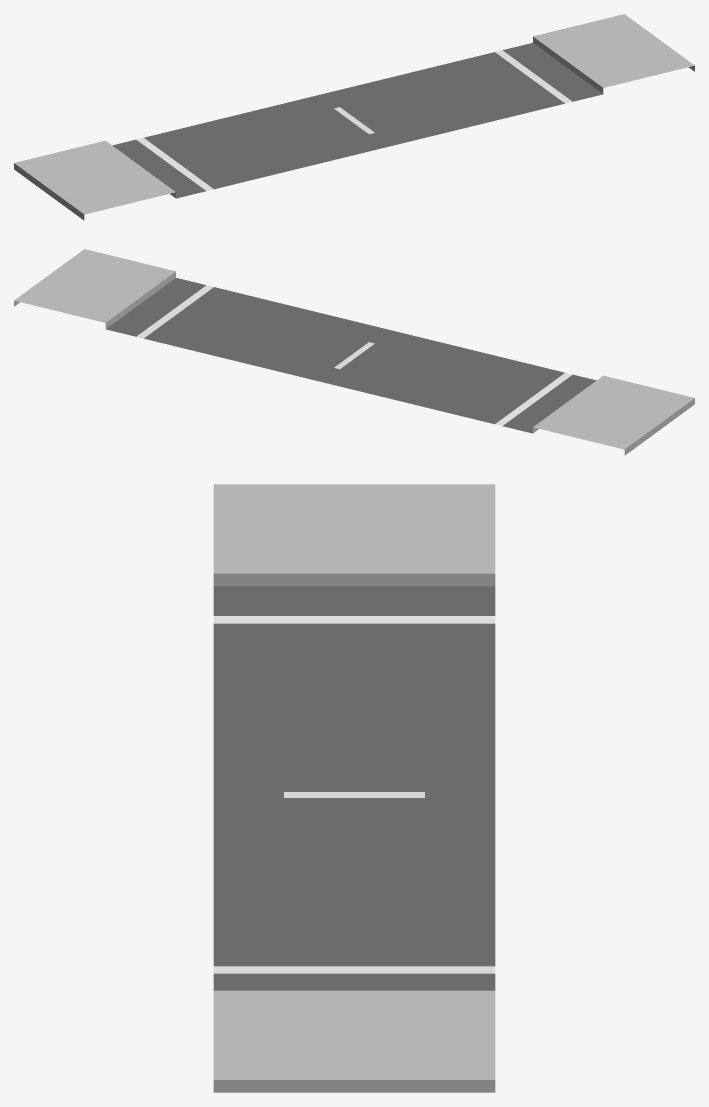
The model's file is Straight_XS.fbx.
3 renders of one model, top to bottom at view 1: azimuth 30°, elevation 25°; view 2: azimuth 150°, elevation 25°; view 3: azimuth 270°, elevation 25°, orthographic. The views are drawn at different scales.
Visible parts, largest first — view 1: Plane; view 2: Plane; view 3: Plane.
Boxes of the visible parts, x1,y1,x2,y2 form: Plane: (14,14,694,220); Plane: (14,249,694,455); Plane: (213,484,495,1092).
Bounding box in the file's own units: 15 × 0.15 × 3.
